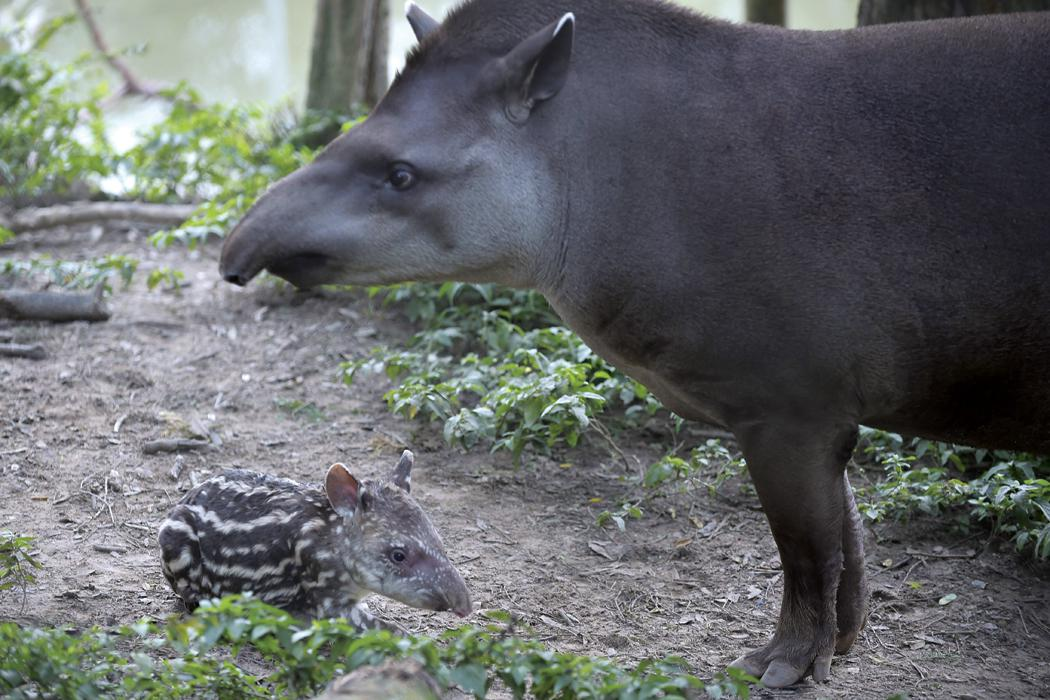Anta: (208, 7, 1043, 687), (151, 456, 497, 628)
